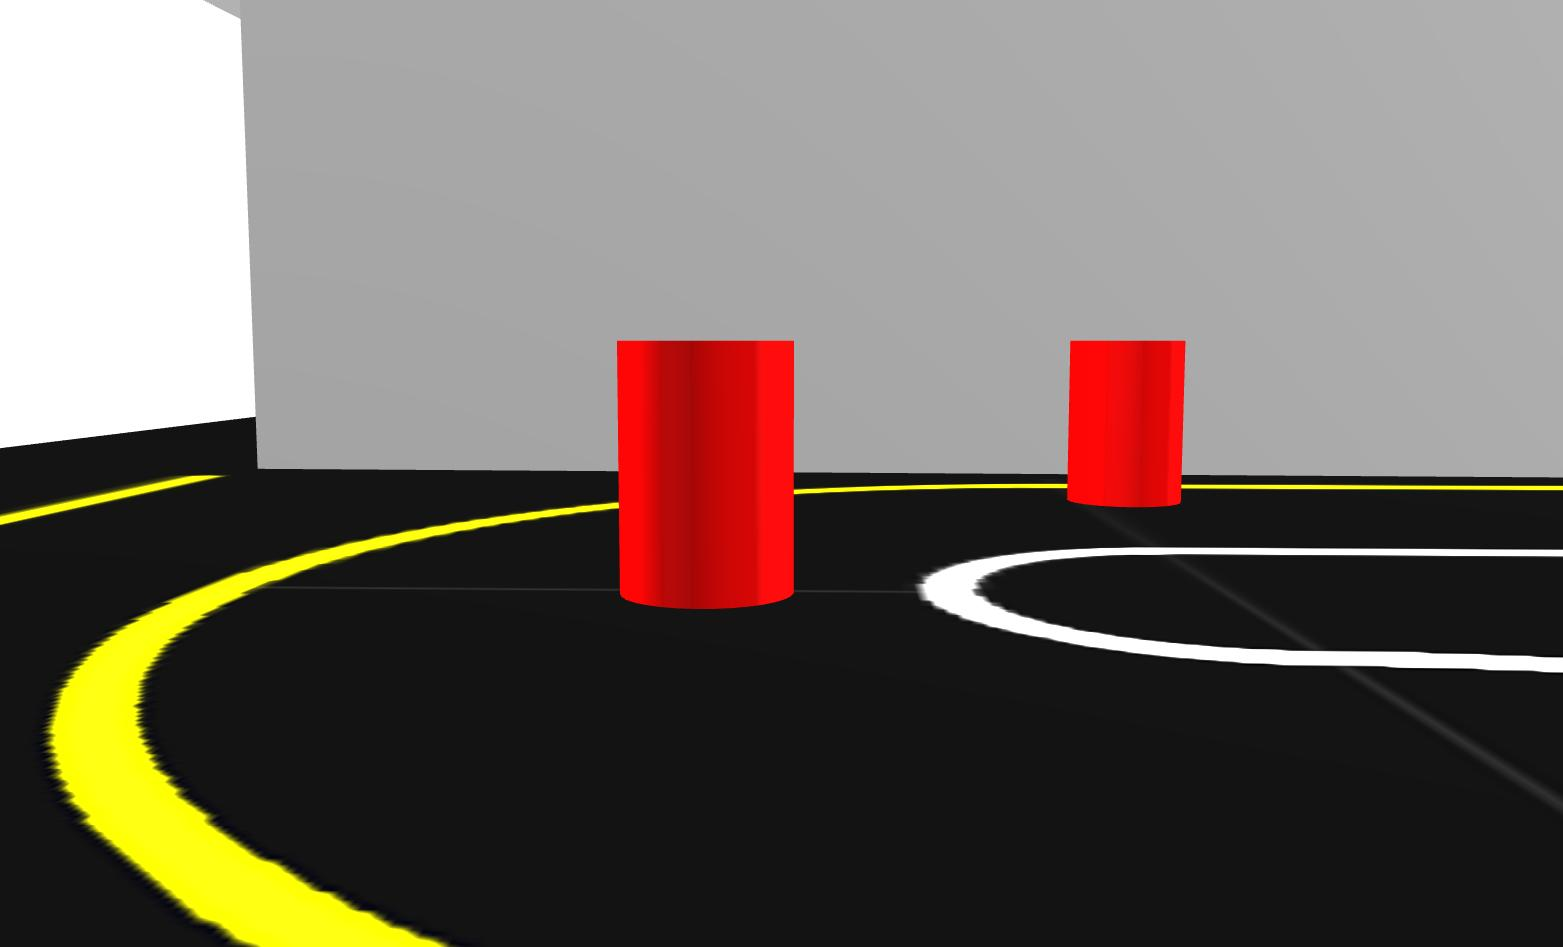obstacle: (611, 335, 798, 611), (1063, 327, 1182, 514)
